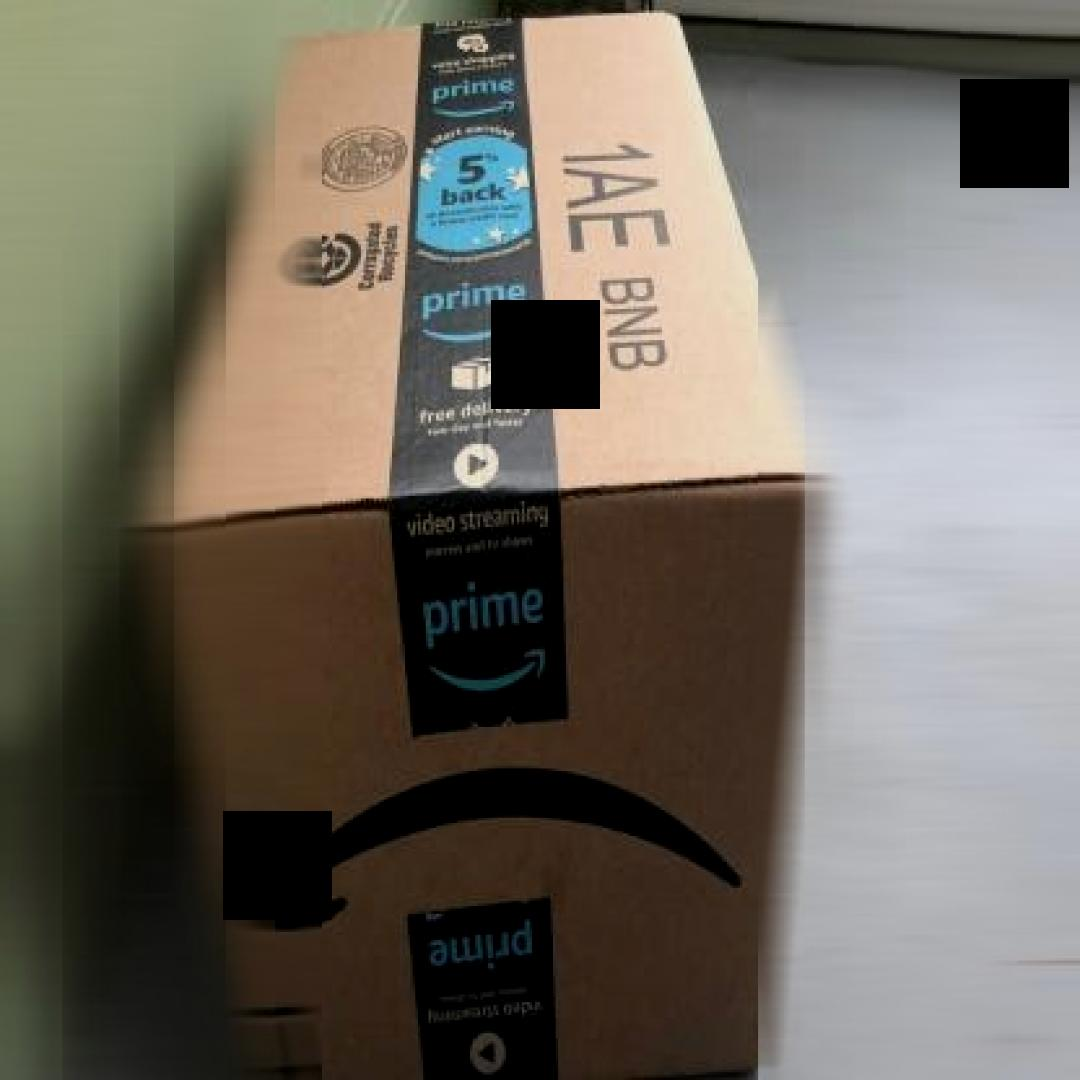package: (145, 13, 823, 1080)
